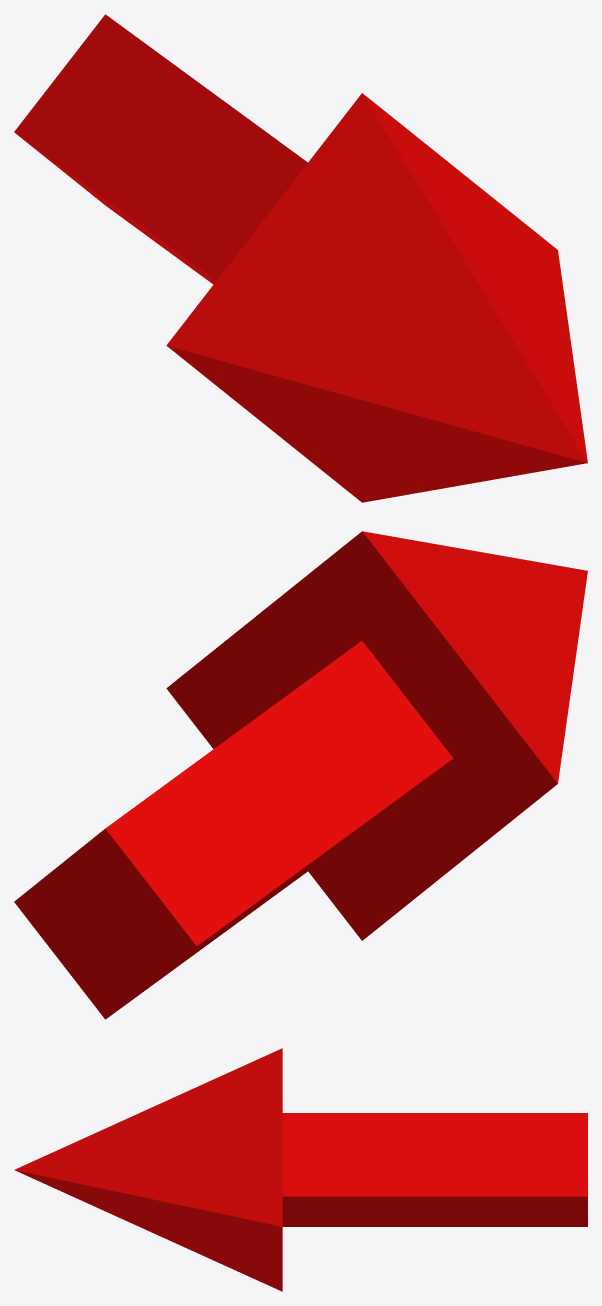
The model's file is arrow.fbx.
3 views of the same model, one above another, from view 1: azimuth 30°, elevation 25°; view 2: azimuth 150°, elevation 25°; view 3: azimuth 270°, elevation 25° (orthographic). The views are drawn at different scales.
Parts seen in each view (by area): view 1: pPyramid1; view 2: pPyramid1; view 3: pPyramid1.
Part boxes in pixels (x1,y1,x2,y2): pPyramid1: [14, 14, 587, 502]; pPyramid1: [14, 531, 587, 1019]; pPyramid1: [14, 1048, 587, 1291].
Bounding box in the file's own units: 4.3 × 4.3 × 9.18.
